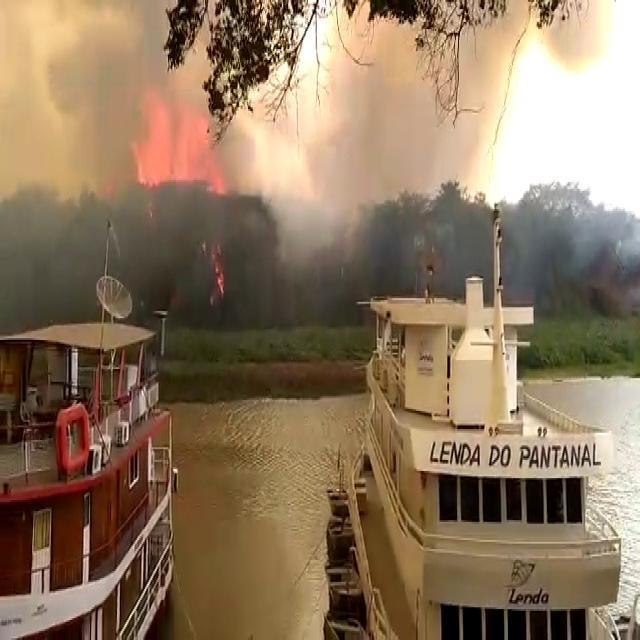Fire: (135, 92, 222, 194), (206, 250, 228, 316)
Smoke: (321, 21, 518, 191), (18, 23, 132, 200), (256, 117, 326, 278), (569, 196, 633, 286)
